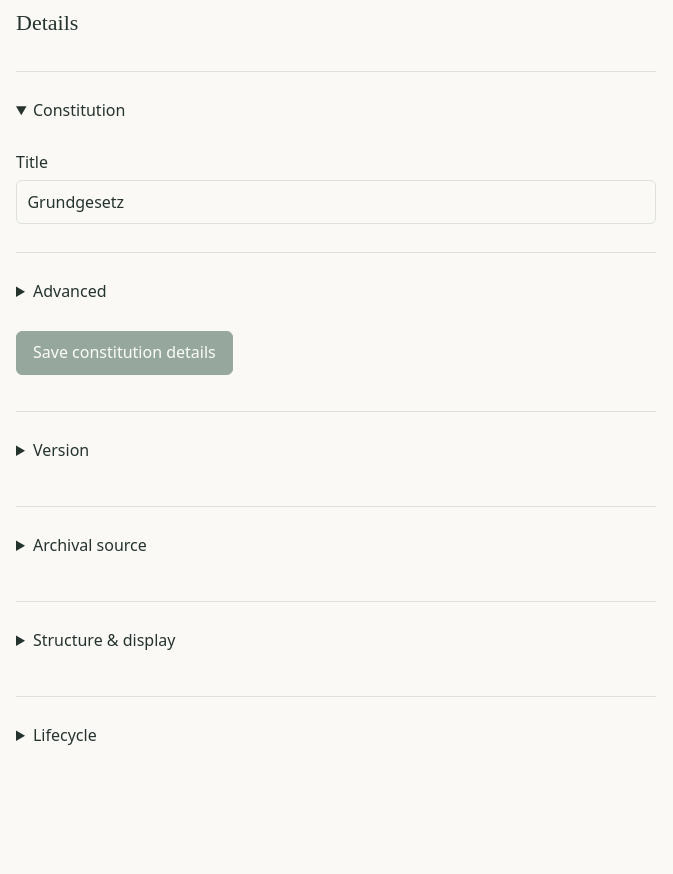
Test: retains typed identity edits after a stale-revision rejection and never retries silently
Replace the text in the field labelled "Title" with "My correction" at (336, 202), box [16,180,656,224]
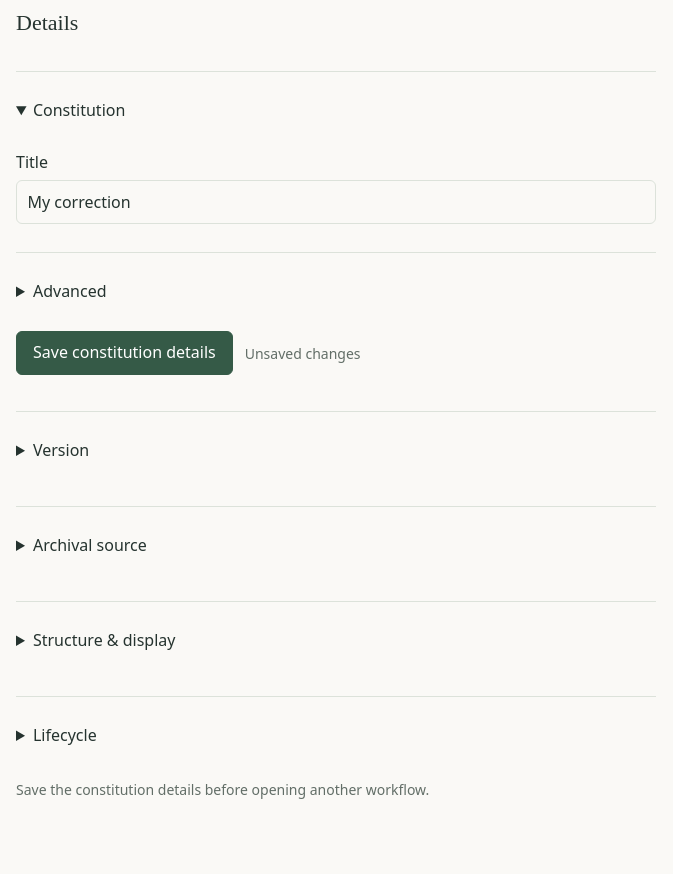
Submit the form, box [16,150,656,375]
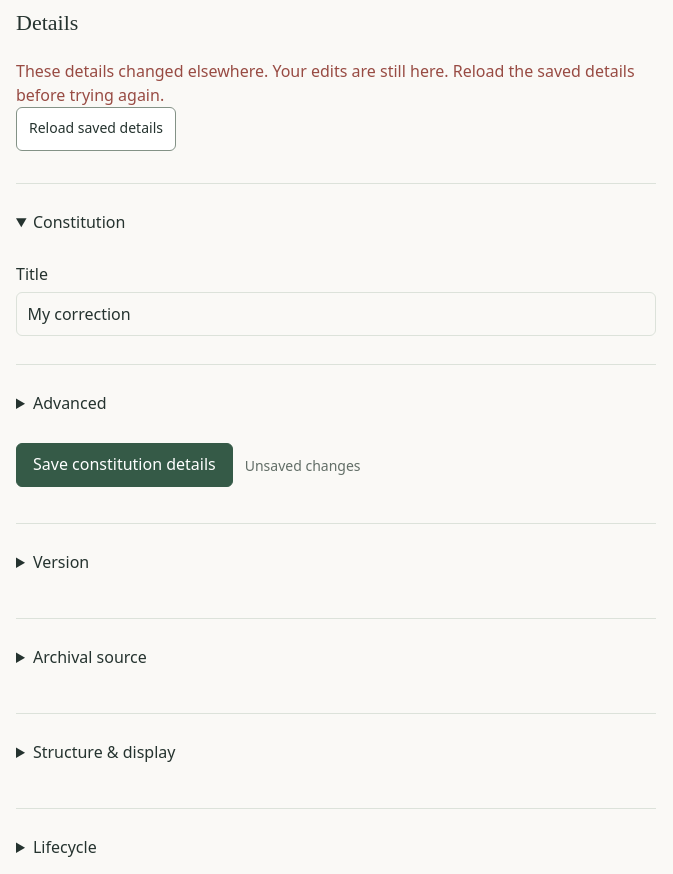
Now the 1st message shows "Your edits are still here", box [16,60,635,106]
